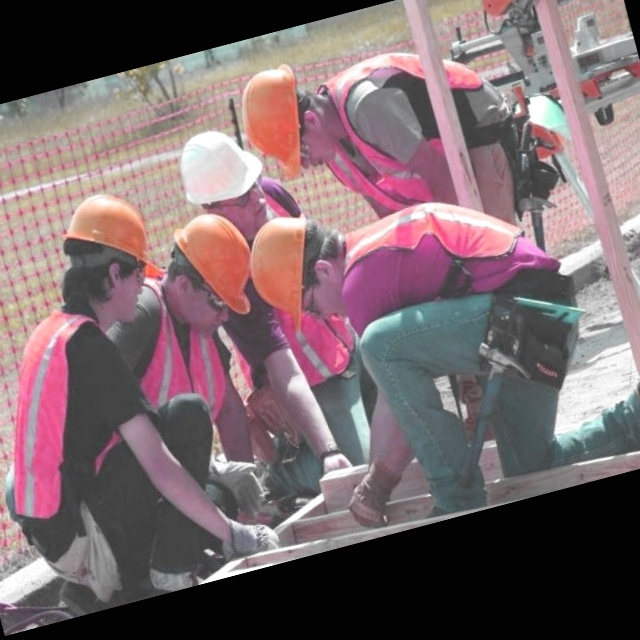Con_Casco: (49, 185, 170, 325), (241, 210, 349, 340), (162, 209, 265, 335), (174, 121, 267, 205)
Con_Chaleco: (0, 304, 159, 527), (306, 30, 496, 209), (329, 177, 538, 336)
